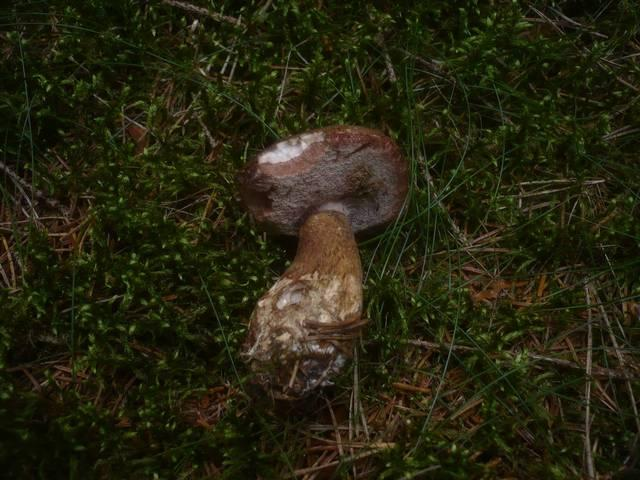poisonous_mushroom: (236, 123, 411, 399)
